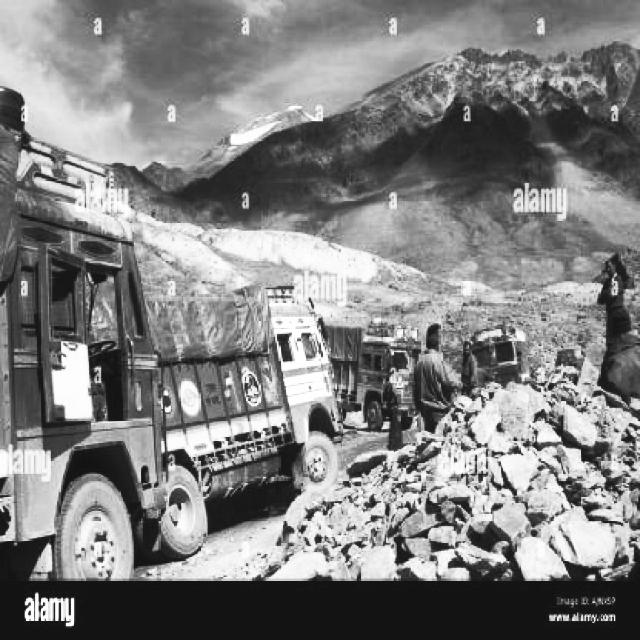HCV: (0, 138, 162, 563), (114, 297, 348, 508), (356, 308, 424, 420), (466, 329, 539, 385)
